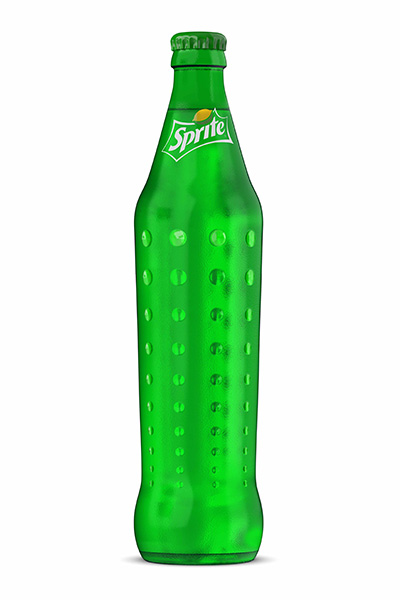sprite_bottle: (134, 32, 264, 566)
